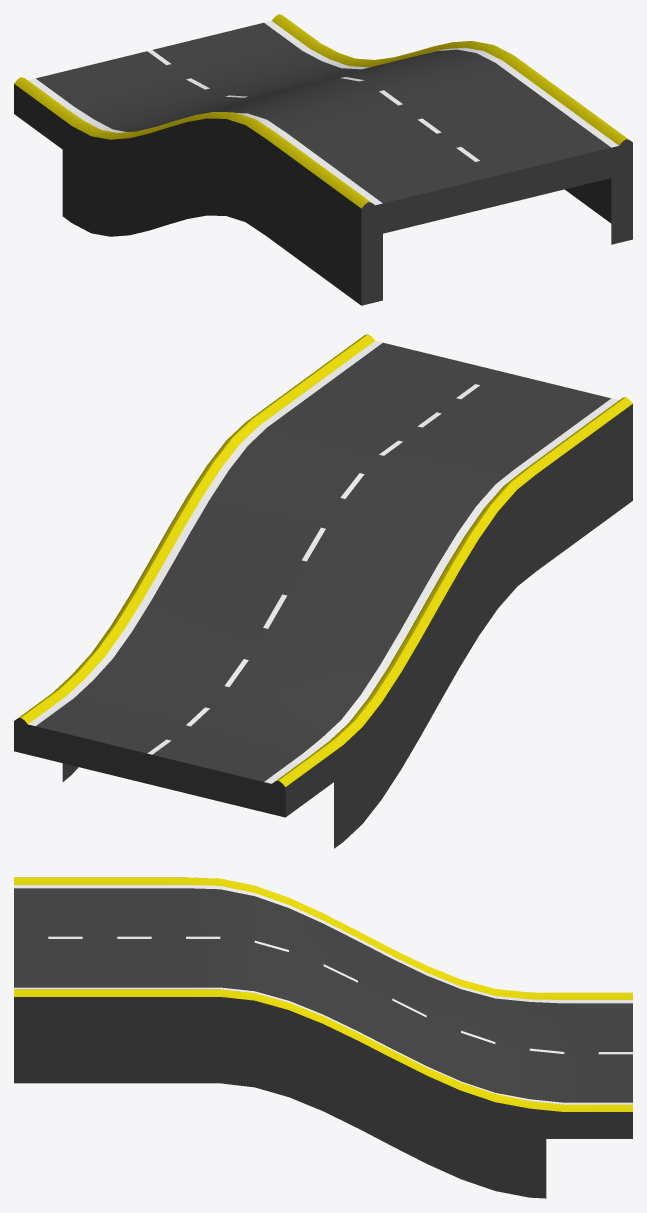
File: platform7.fbx
3 views of the same model, one above another, from view 1: azimuth 30°, elevation 25°; view 2: azimuth 150°, elevation 25°; view 3: azimuth 270°, elevation 25° (orthographic). The views are drawn at different scales.
Visible parts, largest first — view 1: Cube.001; view 2: Cube.001; view 3: Cube.001.
Part boxes in pixels (bbox=[...]): Cube.001: bbox=[14, 14, 632, 305]; Cube.001: bbox=[14, 334, 632, 848]; Cube.001: bbox=[14, 877, 632, 1198].
Size of the model in its own units: 572 by 465 by 1267.
1 material, 1 textured.
